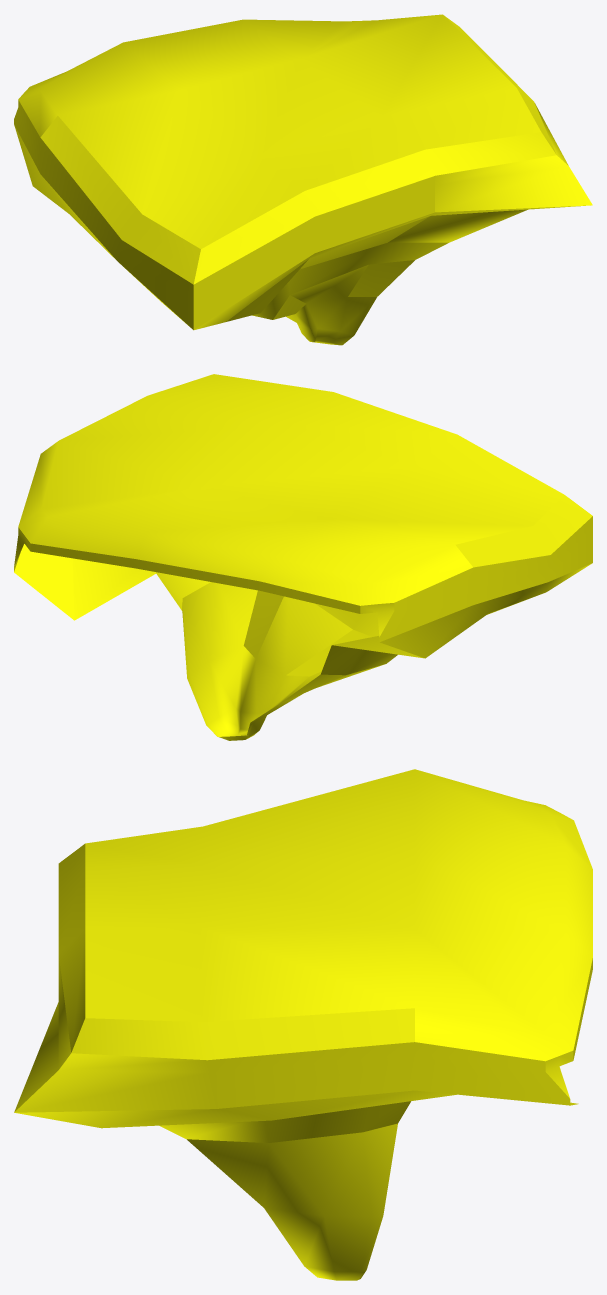
The model's file is Plat1_small_Mesh.FBX.
3 views of the same model, one above another, from view 1: azimuth 30°, elevation 25°; view 2: azimuth 150°, elevation 25°; view 3: azimuth 270°, elevation 25° (orthographic). The views are drawn at different scales.
Visible parts, largest first — view 1: Plattform_small3; view 2: Plattform_small3; view 3: Plattform_small3.
Boxes of the visible parts, <box> form: Plattform_small3: <box>14,14,592,345</box>; Plattform_small3: <box>14,374,592,740</box>; Plattform_small3: <box>14,769,592,1280</box>.
Bounding box in the file's own units: 24 × 14.9 × 21.67.
